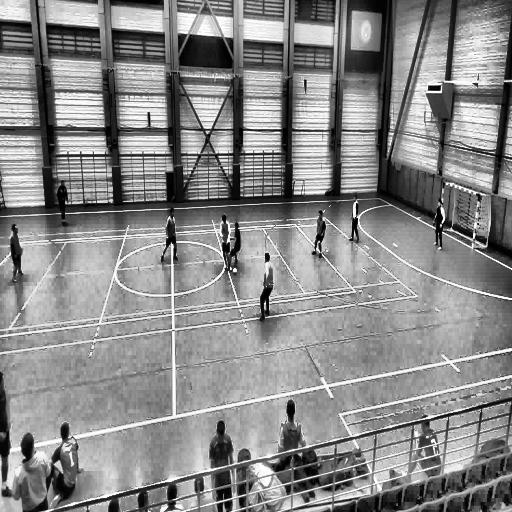ball: (232, 263, 238, 275)
player: (258, 250, 274, 321), (162, 204, 180, 261), (10, 222, 25, 282), (226, 220, 242, 274), (312, 210, 326, 258), (432, 198, 445, 249), (219, 214, 230, 272), (349, 196, 361, 244), (58, 180, 69, 224)
